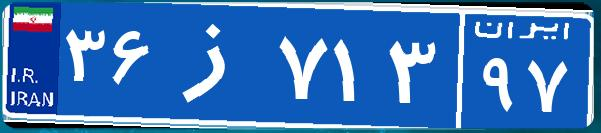1: (330, 28, 385, 110)
3: (385, 28, 445, 110), (57, 26, 110, 107)
6: (110, 28, 158, 105)
7: (273, 28, 330, 110), (525, 38, 570, 115)
9: (475, 38, 525, 113)
ز: (158, 15, 273, 115)
